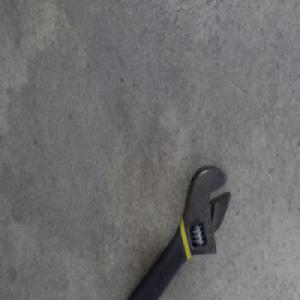AdjustableWrench: (125, 166, 231, 299)
